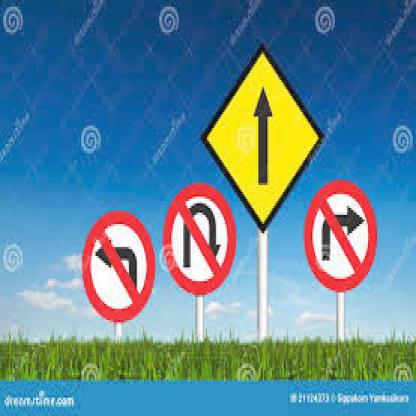No right turn: (302, 171, 378, 296)
